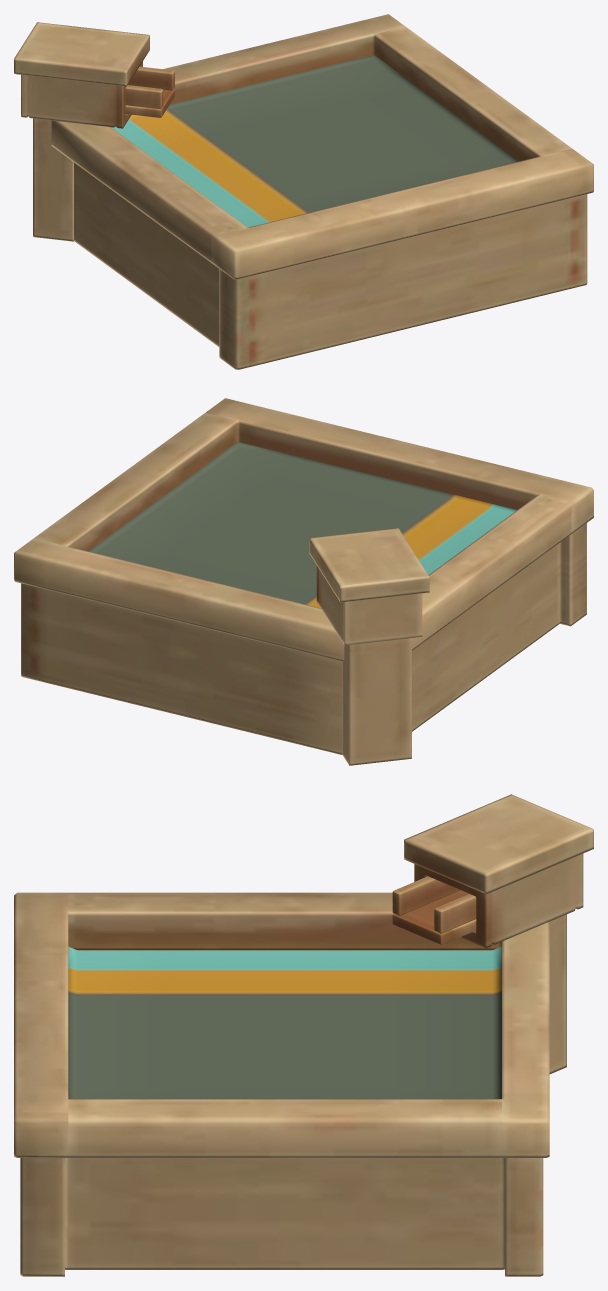
The picture shows the model from 3 angles, top to bottom: view 1: azimuth 30°, elevation 25°; view 2: azimuth 150°, elevation 25°; view 3: azimuth 270°, elevation 25°; orthographic projection. The views are drawn at different scales.
Bounding box in the file's own units: 18.41 × 8.2 × 18.19.
2 materials, 2 textured.
